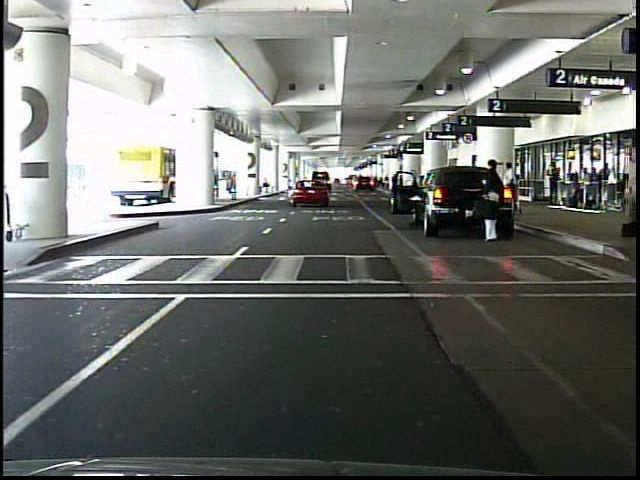person: (479, 161, 506, 246), (499, 161, 520, 216), (546, 162, 559, 206)
